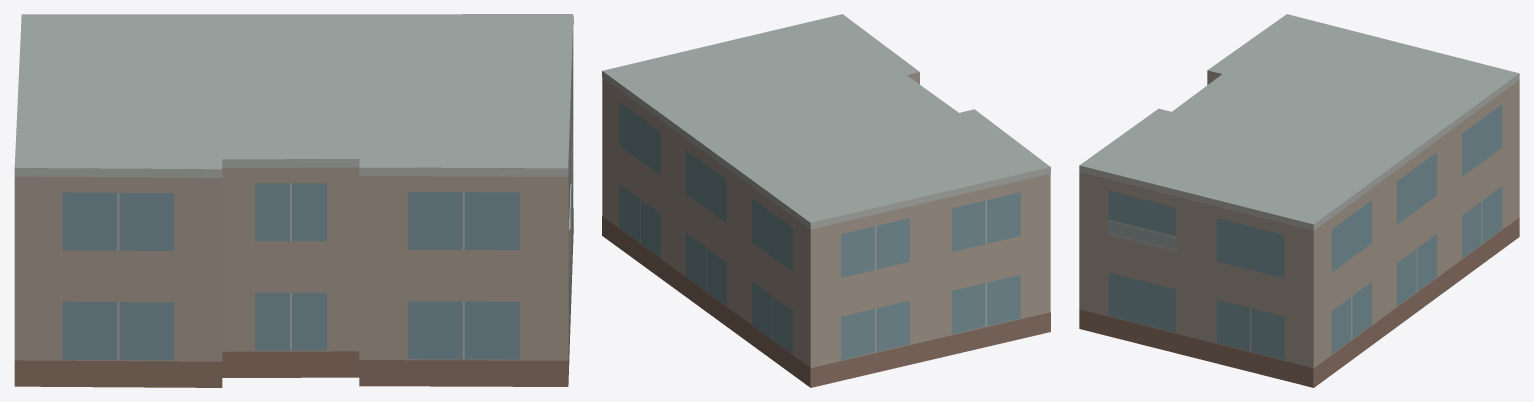
File: survey-upis-32677394.glb
3 renders of one model, left to right at view 1: azimuth 30°, elevation 25°; view 2: azimuth 150°, elevation 25°; view 3: azimuth 270°, elevation 25°, orthographic. The views are drawn at different scales.
Parts seen in each view (by area): view 1: survey-upis-32677394.tmp; view 2: survey-upis-32677394.tmp; view 3: survey-upis-32677394.tmp.
Boxes of the visible parts, x1,y1,x2,y2 form: survey-upis-32677394.tmp: (14, 14, 573, 387); survey-upis-32677394.tmp: (602, 14, 1050, 387); survey-upis-32677394.tmp: (1079, 14, 1519, 387).
Size of the model in its own units: 16.85 by 6.1 by 14.9.
